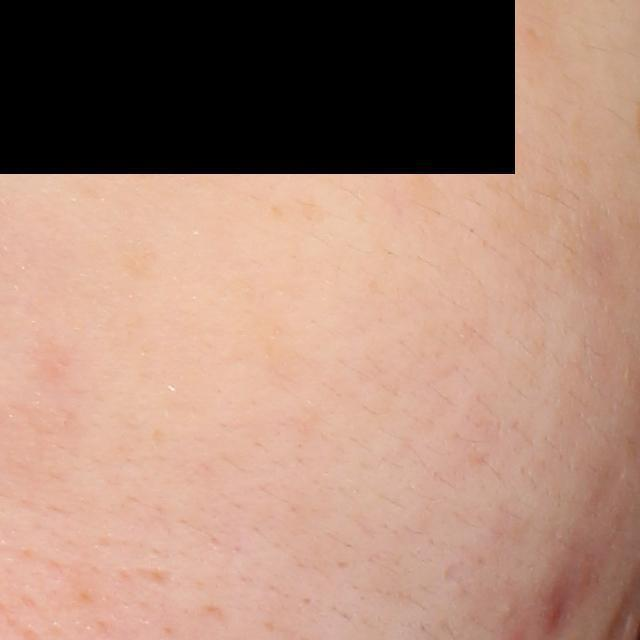comedo: (499, 599, 517, 619)
melasma: (213, 270, 308, 376), (119, 233, 174, 279)
